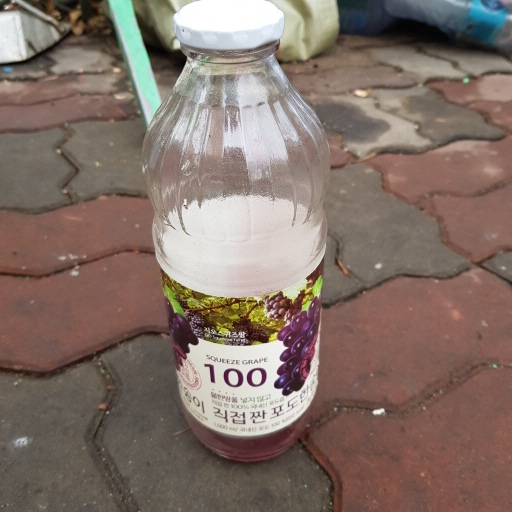Glass_4: (138, 1, 334, 462)
